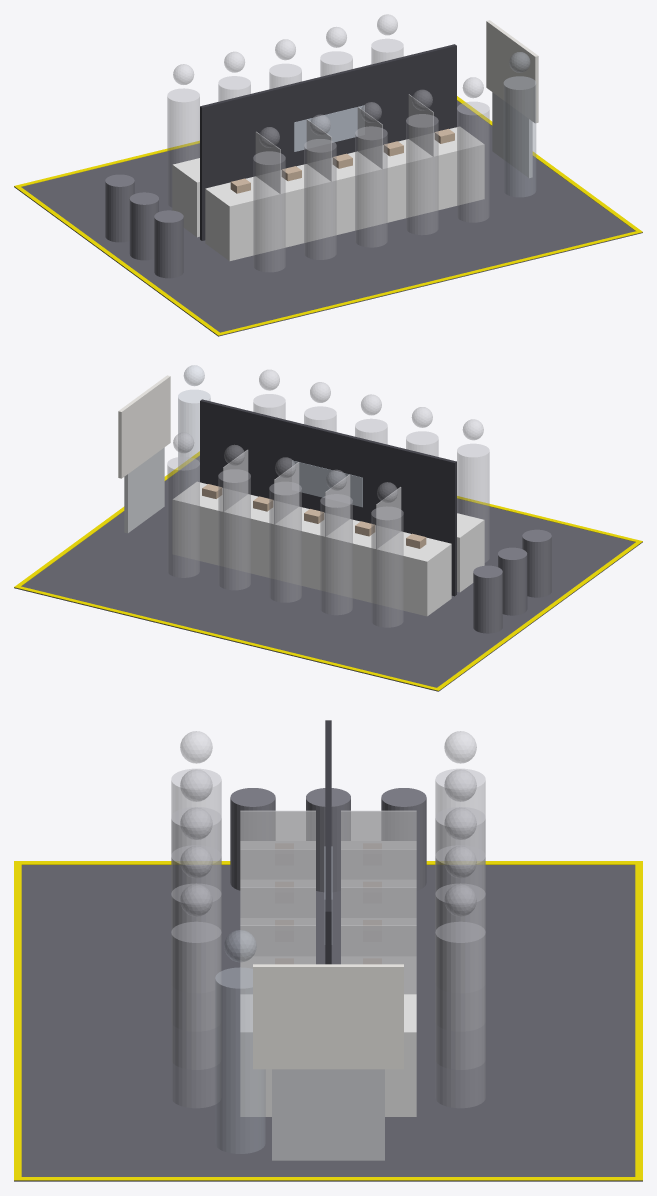
Rendered from G05_SILENT_PAIR.glb.
3 renders of one model, top to bottom at view 1: azimuth 30°, elevation 25°; view 2: azimuth 150°, elevation 25°; view 3: azimuth 270°, elevation 25°, orthographic. The views are drawn at different scales.
Parts seen in each view (by area): view 1: floor_area, partition_frame, booth_table_-1_-0.9, booth_table_-1_0.9, operator_body, player_-1_2_body, player_-1_4_body, player_-1_0_body, player_-1_3_body, player_-1_1_body, reputation_board, player_1_0_body (+18 smaller); view 2: floor_area, partition_frame, booth_table_1_-0.9, booth_table_1_0.9, player_1_0_body, player_1_2_body, player_1_3_body, player_1_1_body, player_1_4_body, reputation_board, player_-1_0_body, reputation_board_easel (+18 smaller); view 3: floor_area, reputation_board, reputation_board_easel, player_1_4_body, player_-1_4_body, player_1_3_body, player_-1_3_body, operator_body, booth_divider_-1_0, booth_divider_-1_1, booth_divider_1_0, booth_divider_1_1 (+33 smaller).
Boxes of the visible parts, x1,y1,x2,y2 form: floor_area: [14, 100, 642, 336]; partition_frame: [200, 44, 456, 240]; booth_table_-1_-0.9: [205, 158, 356, 261]; booth_table_-1_0.9: [346, 126, 484, 229]; operator_body: [503, 76, 536, 197]; player_-1_2_body: [355, 126, 387, 247]; player_-1_4_body: [457, 101, 489, 222]; player_-1_0_body: [253, 151, 285, 272]; player_-1_3_body: [406, 114, 438, 235]; player_-1_1_body: [304, 139, 336, 259]; reputation_board: [486, 20, 538, 123]; player_1_0_body: [167, 88, 199, 207]; floor_area: [14, 456, 642, 691]; partition_frame: [200, 399, 456, 596]; booth_table_1_-0.9: [300, 513, 451, 616]; booth_table_1_0.9: [172, 481, 310, 585]; player_1_0_body: [371, 506, 403, 627]; player_1_2_body: [269, 481, 301, 602]; player_1_3_body: [218, 469, 250, 590]; player_1_1_body: [320, 494, 352, 615]; player_1_4_body: [167, 456, 199, 577]; reputation_board: [118, 375, 170, 478]; player_-1_0_body: [457, 443, 489, 562]; reputation_board_easel: [124, 447, 164, 533]; floor_area: [14, 865, 642, 1181]; reputation_board: [253, 964, 403, 1069]; reputation_board_easel: [272, 1069, 384, 1160]; player_1_4_body: [435, 921, 485, 1108]; player_-1_4_body: [171, 921, 221, 1108]; player_1_3_body: [435, 883, 485, 1069]; player_-1_3_body: [171, 883, 221, 1069]; operator_body: [215, 967, 265, 1153]; booth_divider_-1_0: [240, 810, 315, 878]; booth_divider_-1_1: [240, 849, 315, 917]; booth_divider_1_0: [341, 810, 416, 878]; booth_divider_1_1: [341, 849, 416, 917].
Bounding box in the file's own units: 6 × 1.87 × 5.
